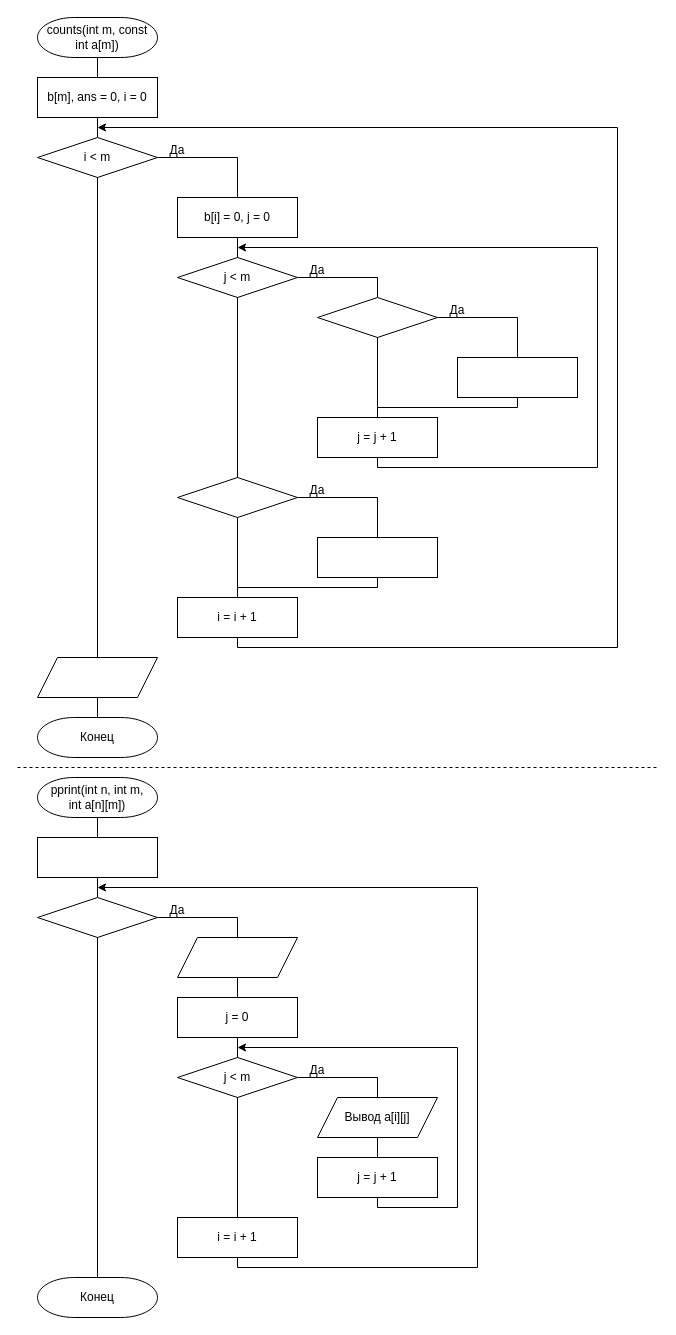
Image size: 676x1335. Some labels were removed from this diagram. The shapes that lost their labels are listed below. From the top down, each one's centre as x and y in pixels, then its label:
(x=377, y=317): a[i] == a[j]
(x=517, y=377): b[i] = b[i] + 1
(x=237, y=497): b[i] > ans
(x=377, y=557): ans = b[i]
(x=97, y=677): Вернуть ans
(x=97, y=857): i = 0
(x=97, y=917): i < n
(x=237, y=957): Вывод "\n"
